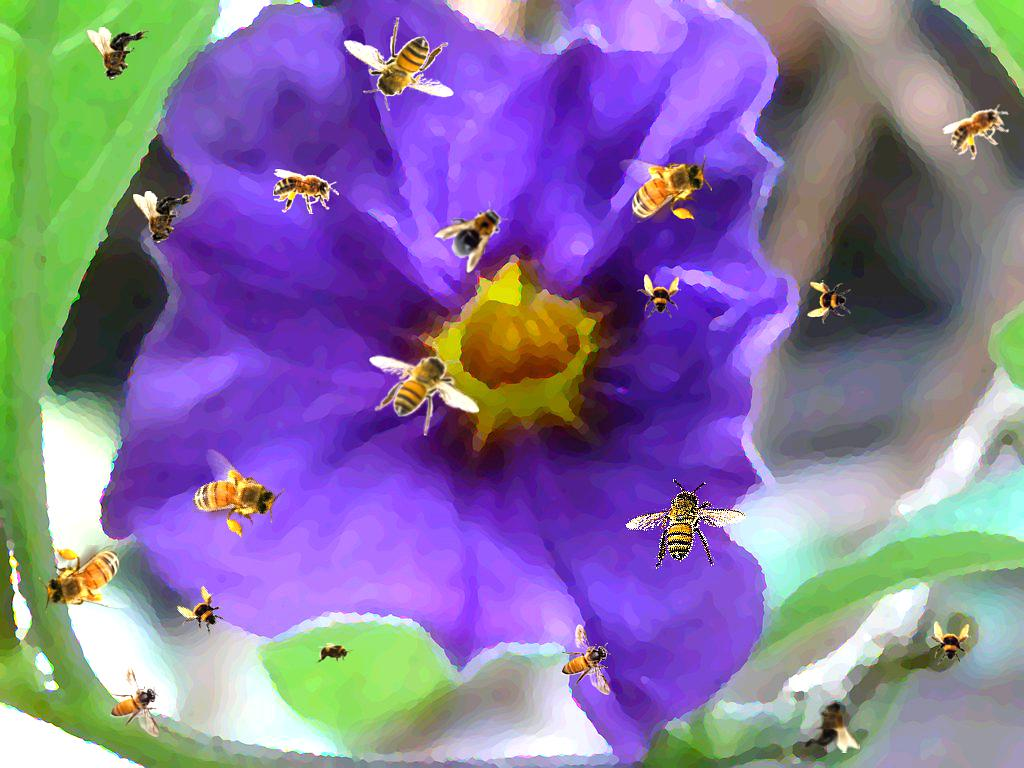Bee: (616, 456, 761, 594), (175, 443, 291, 550), (343, 17, 454, 111), (369, 342, 480, 436), (432, 189, 518, 275), (39, 545, 132, 613), (619, 155, 712, 223), (940, 92, 1020, 167), (170, 581, 234, 645), (561, 624, 611, 695), (110, 666, 160, 737), (87, 27, 149, 80), (798, 700, 860, 753), (133, 191, 195, 244), (273, 169, 339, 214), (637, 274, 681, 318), (927, 621, 971, 665), (807, 280, 851, 324), (314, 642, 354, 664)
